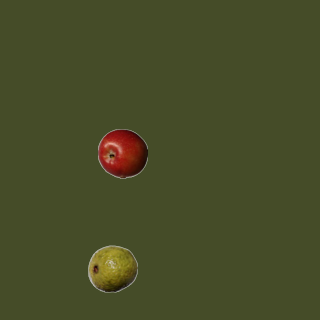Apple Braeburn: (97, 128, 147, 178)
Guava: (87, 243, 137, 293)
